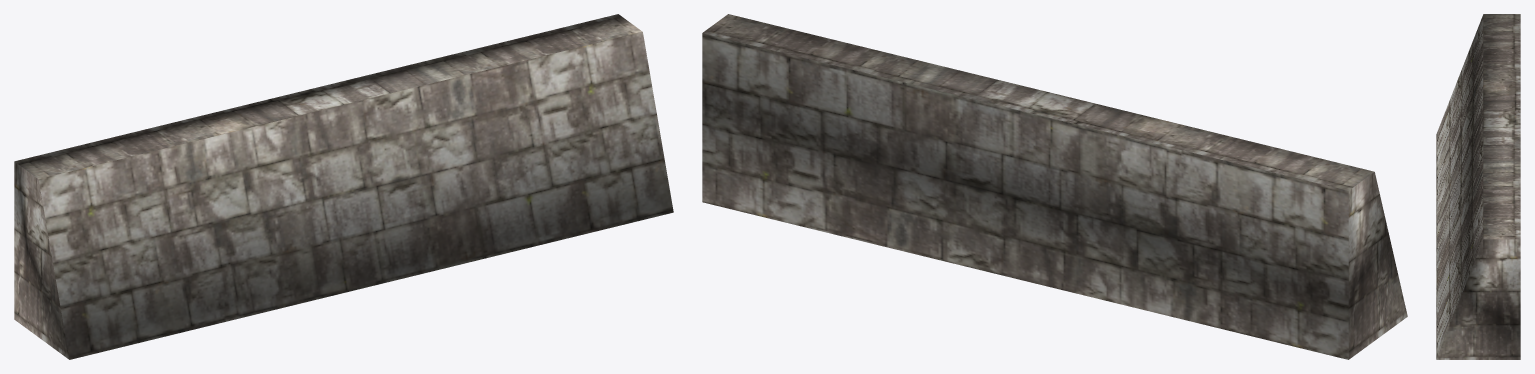
File: foundation_lg_angled_offset.glb
3 views of the same model, side by side, from view 1: azimuth 30°, elevation 25°; view 2: azimuth 150°, elevation 25°; view 3: azimuth 270°, elevation 25° (orthographic). The views are drawn at different scales.
Parts seen in each view (by area): view 1: foundation_lg_angled_offset; view 2: foundation_lg_angled_offset; view 3: foundation_lg_angled_offset.
Boxes of the visible parts, x1,y1,x2,y2 form: foundation_lg_angled_offset: (14,14,673,359); foundation_lg_angled_offset: (702,14,1407,359); foundation_lg_angled_offset: (1436,14,1520,359).
Bounding box in the file's own units: 16 × 4 × 2.54.
Materials: 1 (1 with a texture image).
